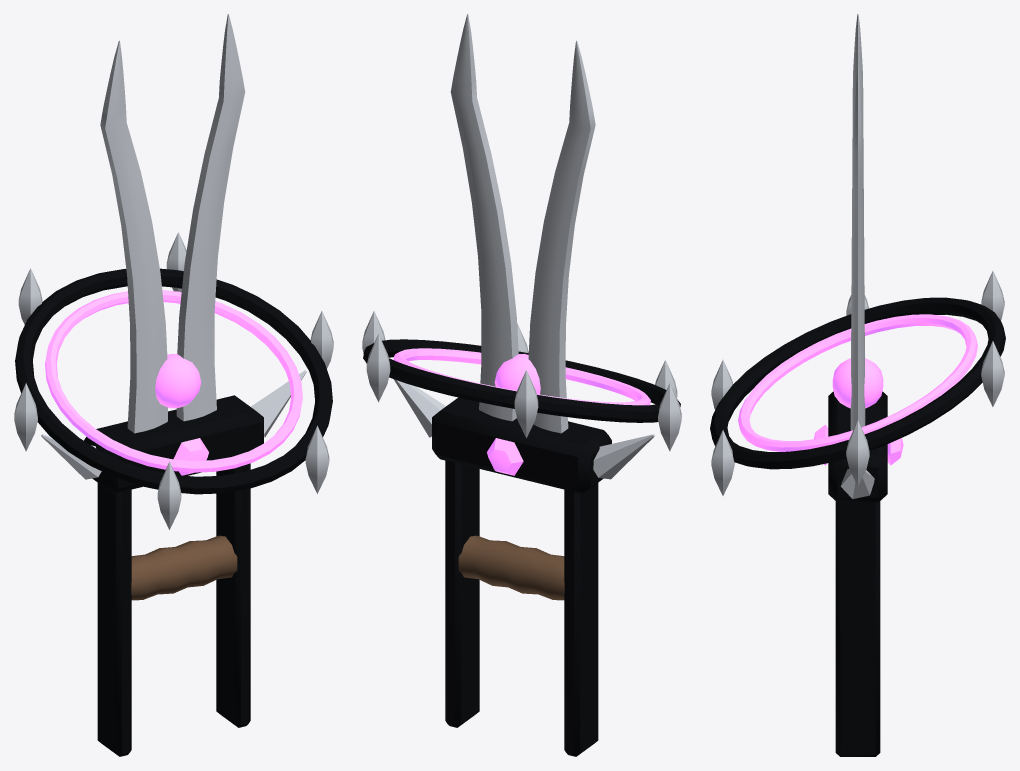
The model's file is esc_w_shadowblade_claw_0.glb.
3 views of the same model, side by side, from view 1: azimuth 30°, elevation 25°; view 2: azimuth 150°, elevation 25°; view 3: azimuth 270°, elevation 25° (orthographic). The views are drawn at different scales.
Visible parts, largest first — view 1: esc_w_shadowblade_claw_0; view 2: esc_w_shadowblade_claw_0; view 3: esc_w_shadowblade_claw_0.
Boxes of the visible parts, x1,y1,x2,y2 form: esc_w_shadowblade_claw_0: [14, 14, 333, 756]; esc_w_shadowblade_claw_0: [362, 14, 681, 756]; esc_w_shadowblade_claw_0: [710, 14, 1005, 756].
Bounding box in the file's own units: 0.242 × 0.5119 × 0.1999.
